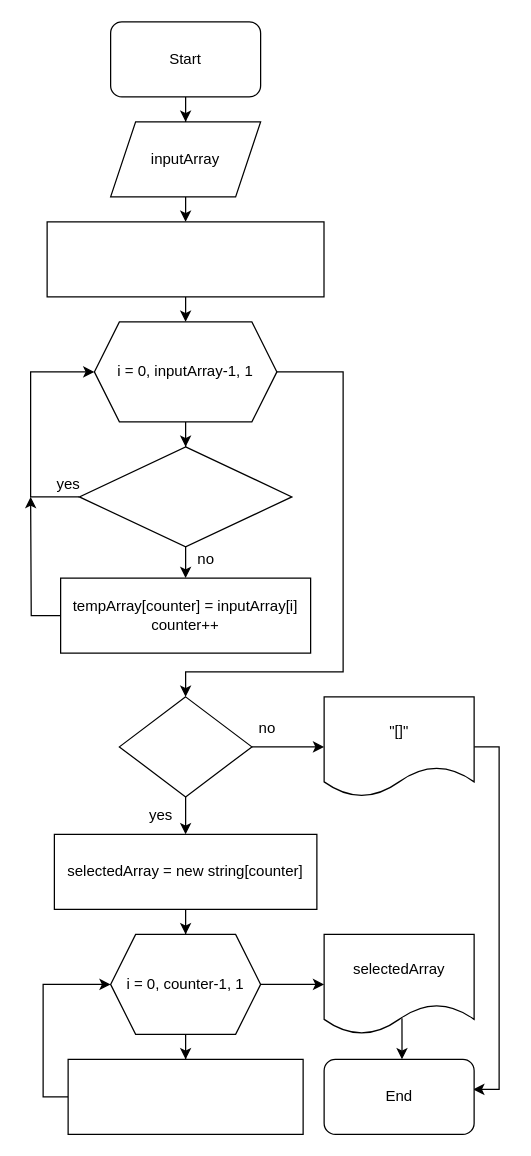
Image size: 531x1156. Some labels were removed from this diagram. The shapes that lost their labels are listed below. From the top down, each one's centre as x and y in pixels, then its label:
At (185,259): "tempArray = new int[inputArray.length] counter = 0".
At (185,496): "inputArray[i].length > 3 ?".
At (185,746): "counter > 0 ?".
At (185,1096): "selectedArray[i] = tempArray[i]".
